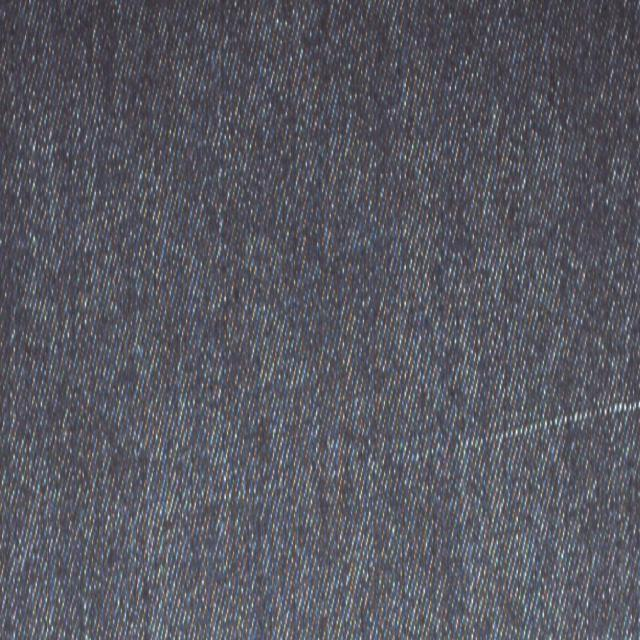Line: (125, 390, 638, 530)
